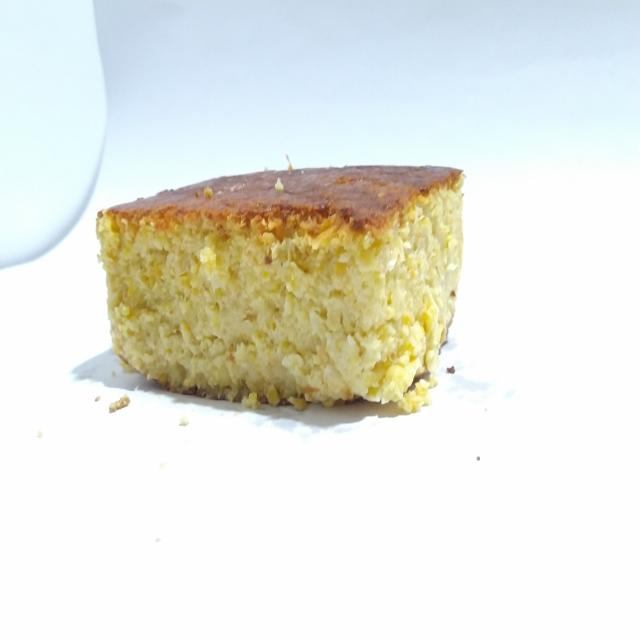Food: (88, 147, 470, 420)
